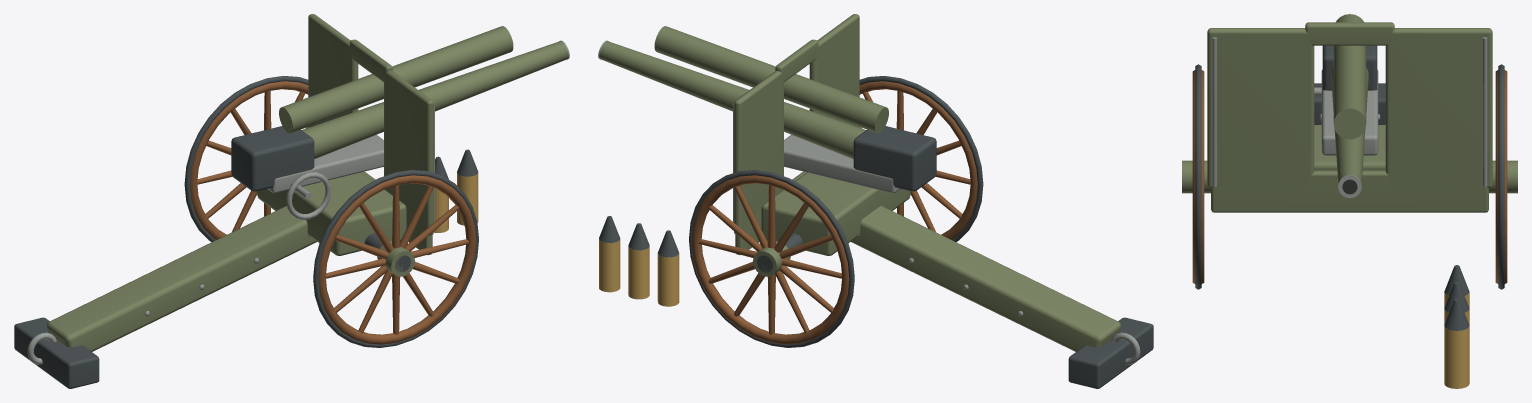
File: qf18_field_gun_1914_web.glb
3 renders of one model, left to right at view 1: azimuth 30°, elevation 25°; view 2: azimuth 150°, elevation 25°; view 3: azimuth 270°, elevation 25°, orthographic. The views are drawn at different scales.
Parts seen in each view (by area): view 1: Olive_Painted_Metal, Walnut_Wood, Dark_Blued_Steel, Burnished_Steel, Brass; view 2: Olive_Painted_Metal, Walnut_Wood, Dark_Blued_Steel, Burnished_Steel, Brass; view 3: Olive_Painted_Metal, Dark_Blued_Steel, Burnished_Steel, Walnut_Wood, Brass.
Boxes of the visible parts, left/top/right/bottom form: Olive_Painted_Metal: left=47, top=14, right=568, bottom=351; Walnut_Wood: left=190, top=81, right=476, bottom=344; Dark_Blued_Steel: left=14, top=76, right=478, bottom=388; Burnished_Steel: left=27, top=40, right=569, bottom=364; Brass: left=434, top=171, right=478, bottom=232; Olive_Painted_Metal: left=599, top=14, right=1120, bottom=351; Walnut_Wood: left=691, top=81, right=977, bottom=344; Dark_Blued_Steel: left=599, top=76, right=1153, bottom=388; Burnished_Steel: left=598, top=40, right=1140, bottom=364; Brass: left=599, top=238, right=679, bottom=306; Olive_Painted_Metal: left=1182, top=14, right=1517, bottom=212; Dark_Blued_Steel: left=1195, top=45, right=1504, bottom=330; Burnished_Steel: left=1212, top=37, right=1487, bottom=197; Walnut_Wood: left=1192, top=70, right=1507, bottom=283; Brass: left=1444, top=292, right=1469, bottom=388.
Bounding box in the file's own units: 4.94 × 2.07 × 2.26.
